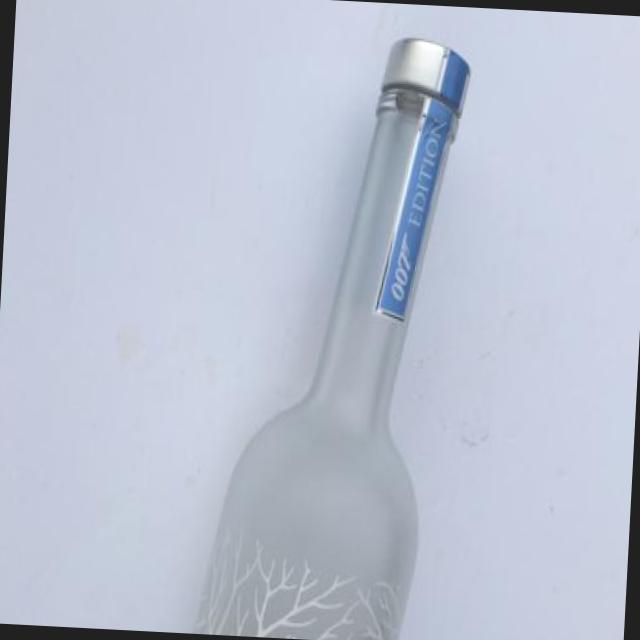chai_thuy_tinh: (194, 39, 469, 640)
